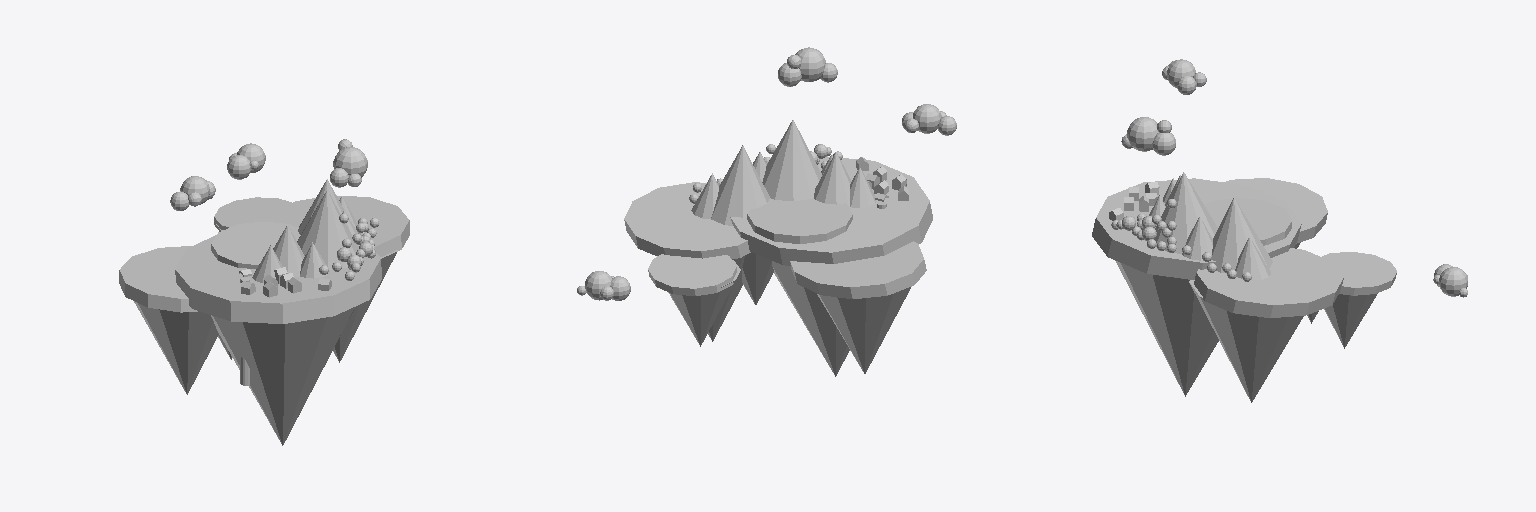
File: island.obj
3 views of the same model, side by side, from view 1: azimuth 30°, elevation 25°; view 2: azimuth 150°, elevation 25°; view 3: azimuth 270°, elevation 25° (orthographic).
Bounding box in the file's own units: 0.6373 × 0.6617 × 0.7496.